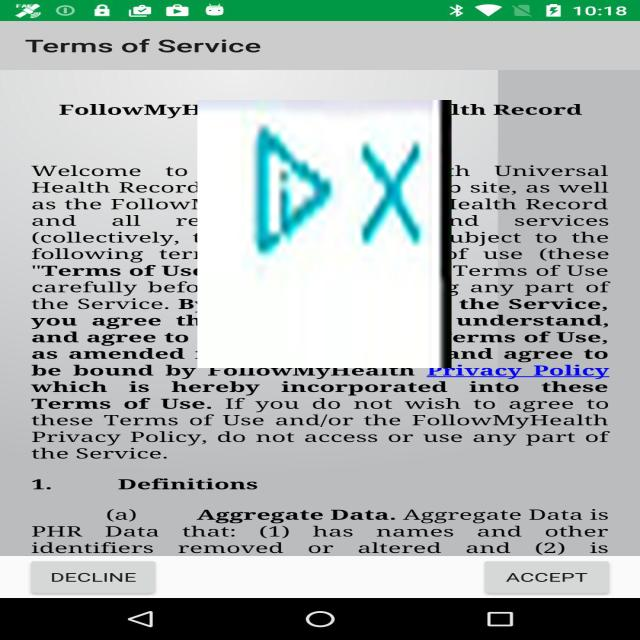sneaking: (198, 100, 452, 368)
